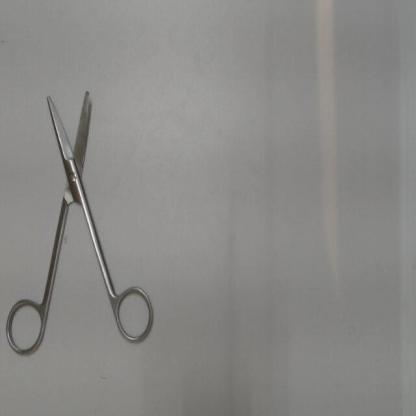Curved Mayo Scissors: (3, 80, 161, 365)
